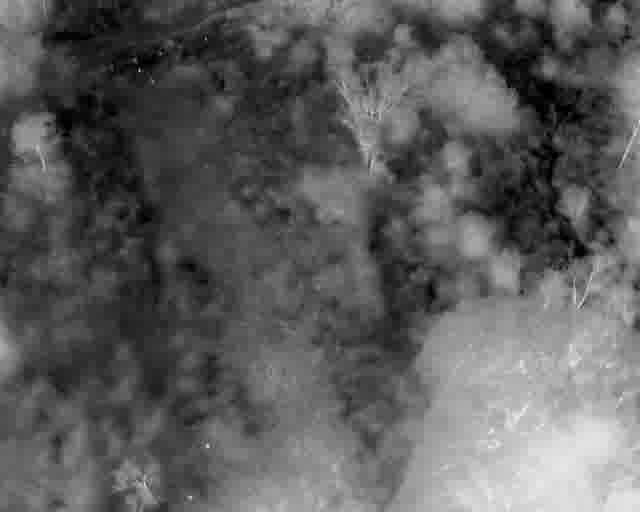car: (509, 12, 603, 211)
person: (602, 446, 636, 479)
